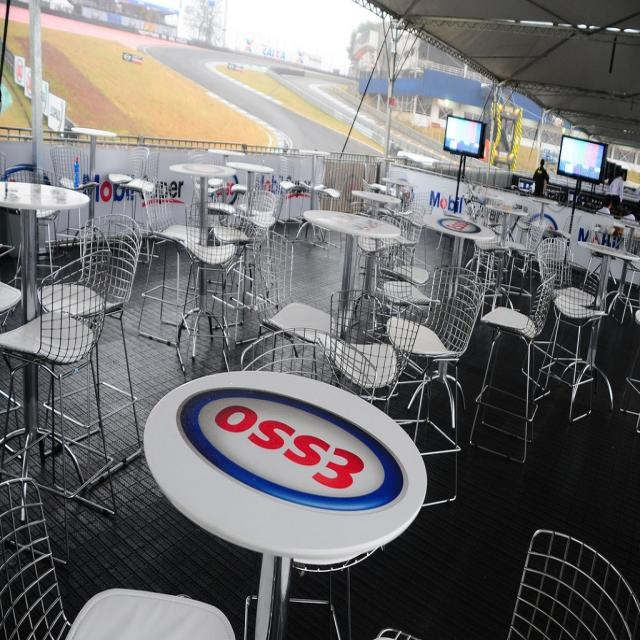esso: (179, 382, 414, 528), (441, 216, 482, 236)
